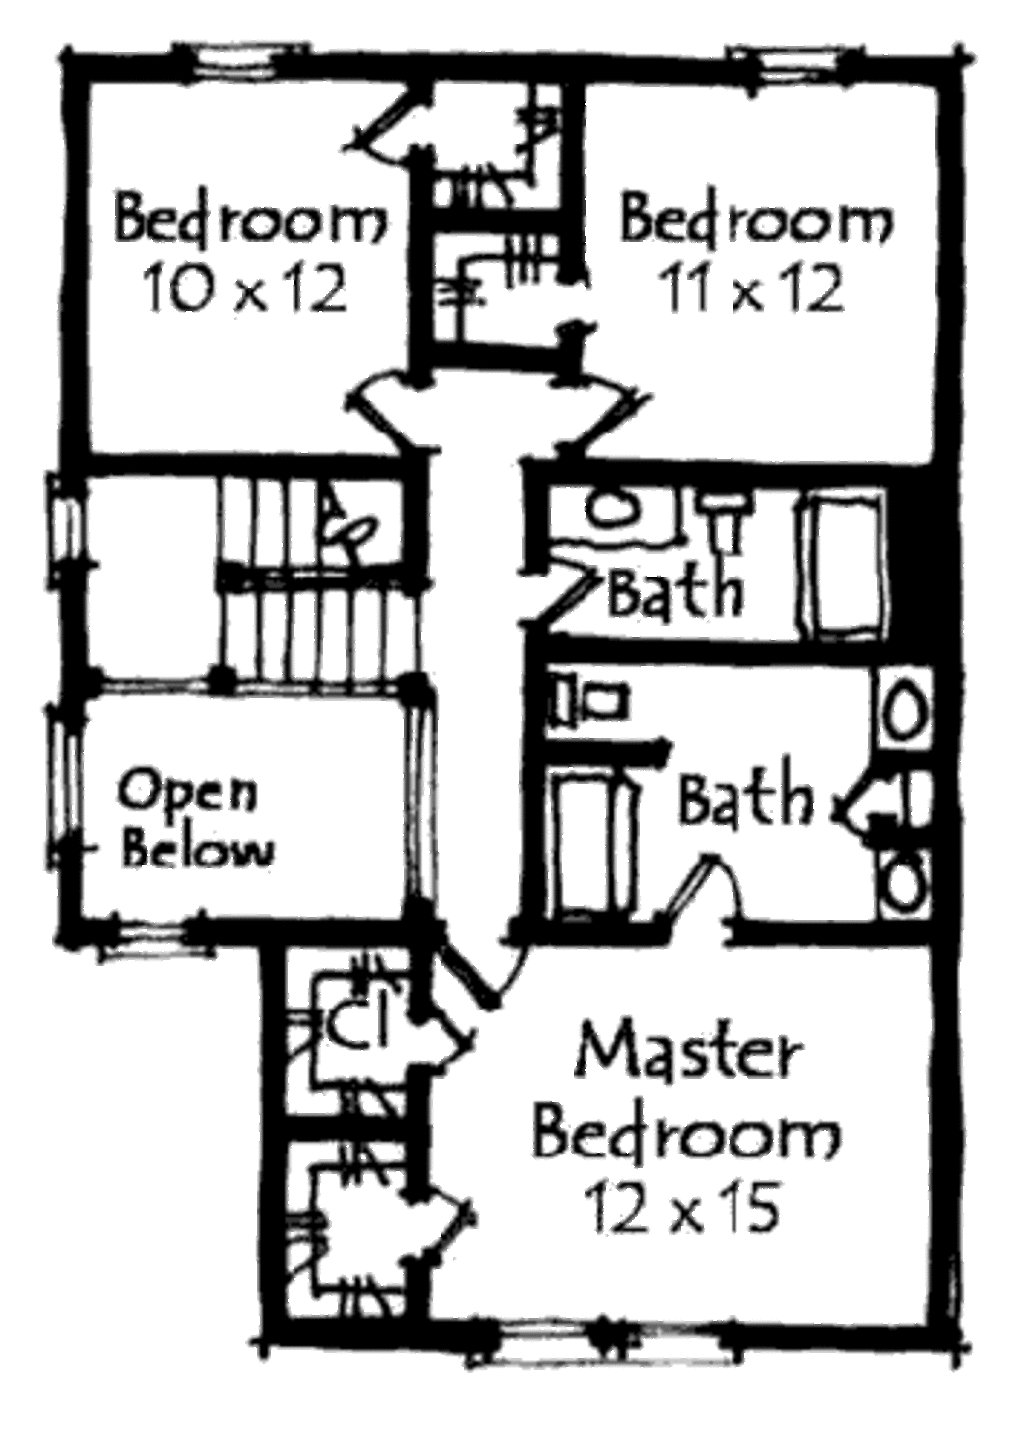door: (553, 367, 661, 463), (344, 81, 444, 176), (651, 847, 755, 938), (344, 358, 433, 454), (400, 994, 482, 1081), (411, 1187, 475, 1256), (531, 561, 600, 623)
large_sink: (544, 663, 675, 729), (693, 475, 764, 558)
small_sink: (544, 474, 702, 563), (862, 663, 936, 751), (877, 847, 953, 921)
stairs: (173, 463, 440, 689)
tub: (775, 487, 904, 641), (553, 763, 653, 923)
window: (469, 1303, 757, 1372), (35, 696, 102, 853), (717, 34, 866, 92), (175, 34, 313, 92), (35, 467, 104, 581)
